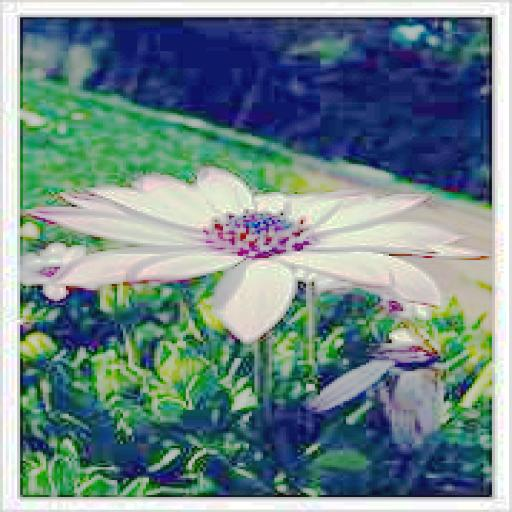daisy: (52, 171, 458, 324)
